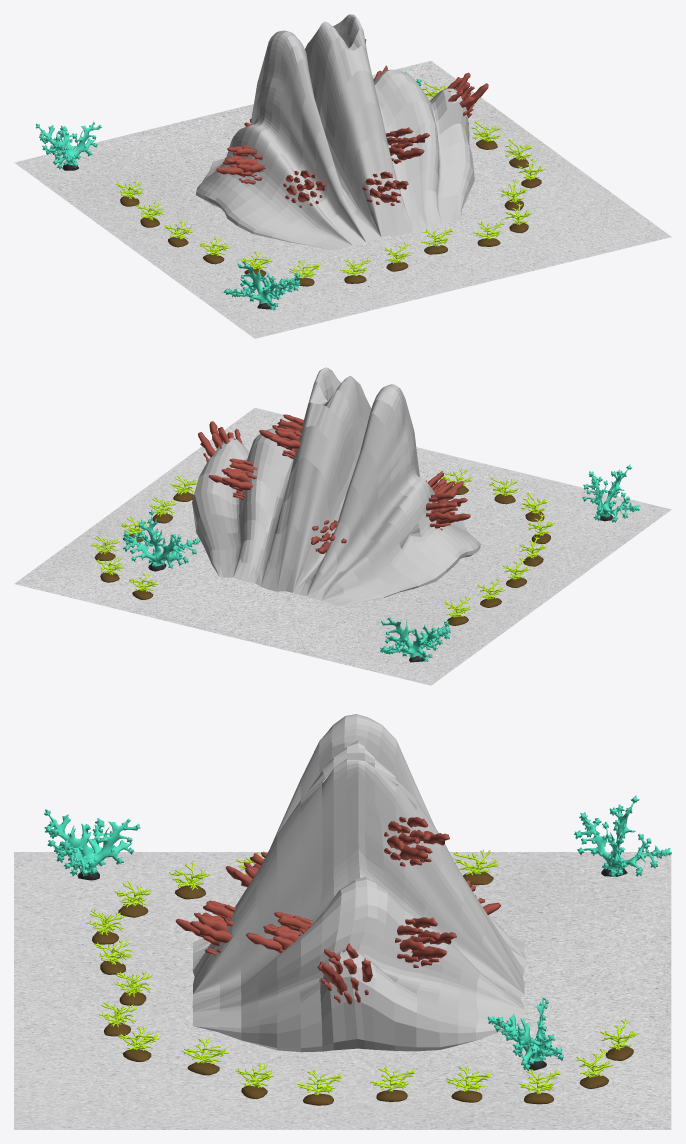
The model's file is EscFinal.fbx.
3 views of the same model, one above another, from view 1: azimuth 30°, elevation 25°; view 2: azimuth 150°, elevation 25°; view 3: azimuth 270°, elevation 25° (orthographic). The views are drawn at different scales.
Visible parts, largest first — view 1: Plane, GeiserPart.001, 20942_Staghorn_Coral_v1_NEW, 20944_Pillar_Coral_v1.001, 21488_Tree_Coral_v2_NEW.001, 21488_Tree_Coral_v2_NEW.002; view 2: Plane, GeiserPart.001, 20942_Staghorn_Coral_v1_NEW, 20944_Pillar_Coral_v1.001, 21488_Tree_Coral_v2_NEW.004, 21488_Tree_Coral_v2_NEW.001, 21488_Tree_Coral_v2_NEW.002; view 3: Plane, GeiserPart.001, 20942_Staghorn_Coral_v1_NEW, 20944_Pillar_Coral_v1.001, 21488_Tree_Coral_v2_NEW.002, 21488_Tree_Coral_v2_NEW.001, 21488_Tree_Coral_v2_NEW.004.
Part boxes in pixels (bbox=[...]): Plane: bbox=[14, 61, 671, 338]; GeiserPart.001: bbox=[195, 14, 474, 250]; 20942_Staghorn_Coral_v1_NEW: bbox=[116, 82, 544, 286]; 20944_Pillar_Coral_v1.001: bbox=[216, 39, 488, 207]; 21488_Tree_Coral_v2_NEW.001: bbox=[36, 121, 101, 170]; 21488_Tree_Coral_v2_NEW.002: bbox=[223, 260, 300, 310]; Plane: bbox=[14, 408, 671, 685]; GeiserPart.001: bbox=[192, 367, 480, 606]; 20942_Staghorn_Coral_v1_NEW: bbox=[91, 467, 554, 625]; 20944_Pillar_Coral_v1.001: bbox=[198, 414, 470, 553]; 21488_Tree_Coral_v2_NEW.004: bbox=[123, 509, 200, 571]; 21488_Tree_Coral_v2_NEW.001: bbox=[380, 617, 450, 662]; 21488_Tree_Coral_v2_NEW.002: bbox=[582, 464, 639, 522]; Plane: bbox=[14, 852, 671, 1129]; GeiserPart.001: bbox=[192, 714, 526, 1052]; 20942_Staghorn_Coral_v1_NEW: bbox=[87, 849, 638, 1105]; 20944_Pillar_Coral_v1.001: bbox=[175, 817, 500, 1004]; 21488_Tree_Coral_v2_NEW.002: bbox=[44, 809, 140, 880]; 21488_Tree_Coral_v2_NEW.001: bbox=[574, 795, 671, 876]; 21488_Tree_Coral_v2_NEW.004: bbox=[487, 997, 563, 1070].
Bounding box in the file's own units: 14660 × 5947 × 14676.
